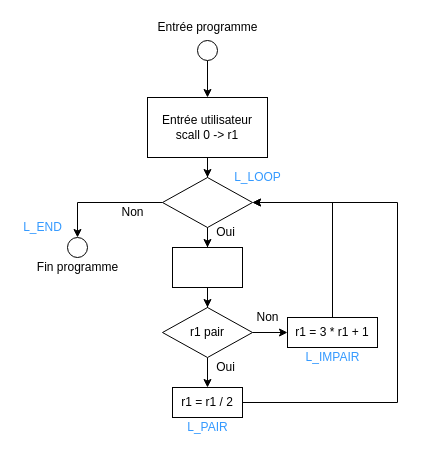
The diagram is 423 pixels wide and 454 high, and some of its shapes have lost their labels. The shapes that lost their labels are listed below. From the top down, each one's centre as x and y in pixels, then its label:
At pixel 207 202: "r1 > 1".
At pixel 207 267: "Afficher r1 scall 1".
